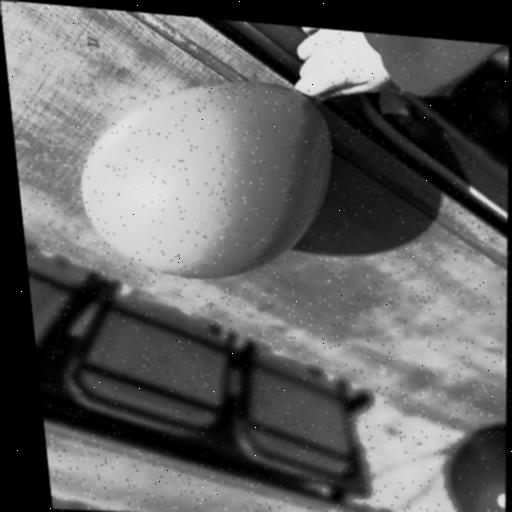balloon: (68, 73, 356, 299)
